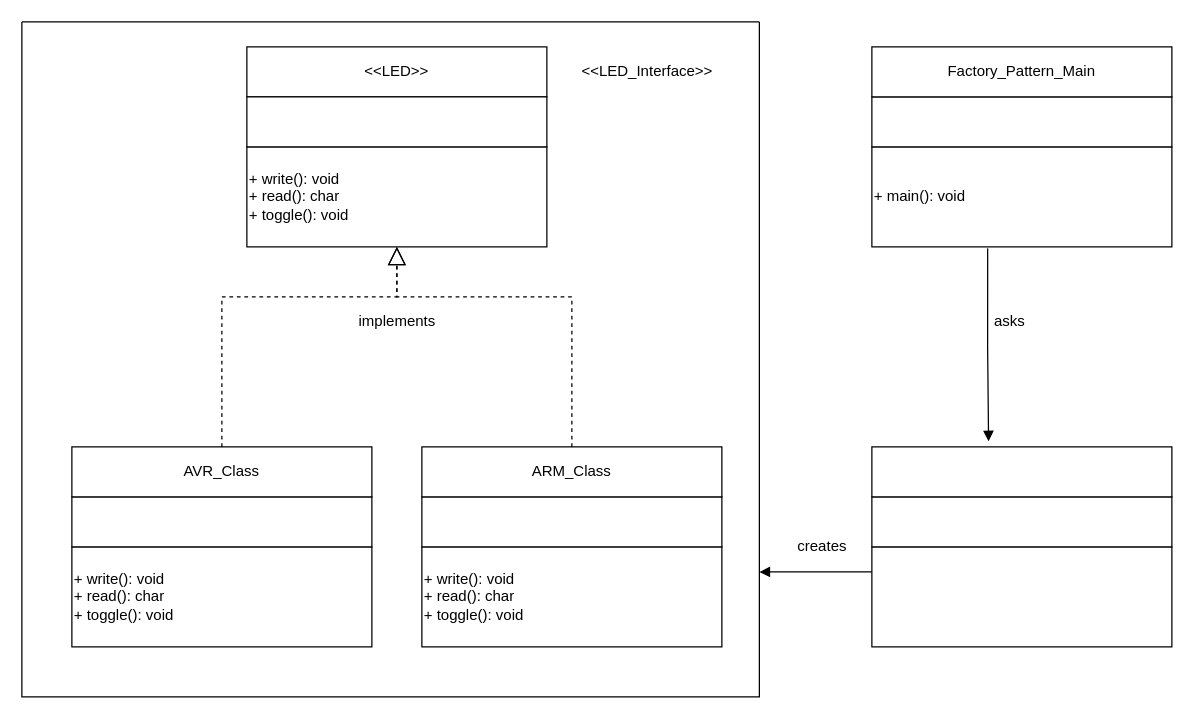
Image size: 1194x719. Some labels were removed from this diagram. The shapes that lost their labels are listed below. From the top down, each one's centre as x and y in pixels, then its label:
[1021,471]: Micro_Factory_Class
[1021,596]: + get_LED(): LED
